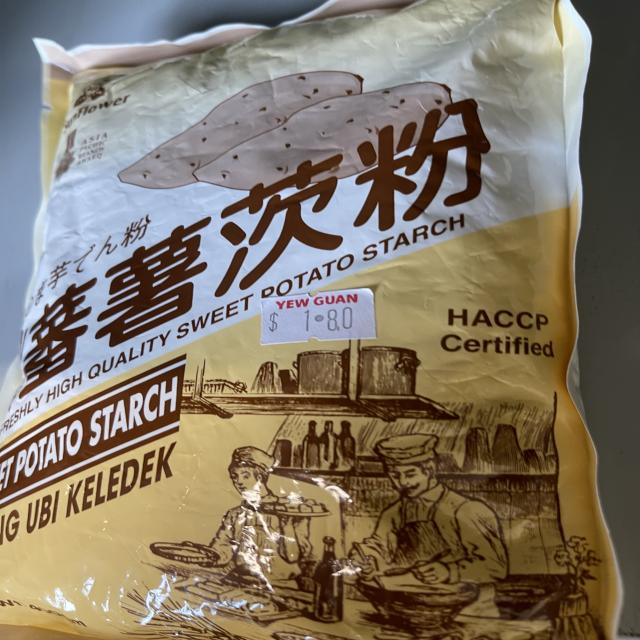object_name: (47, 34, 582, 640)
